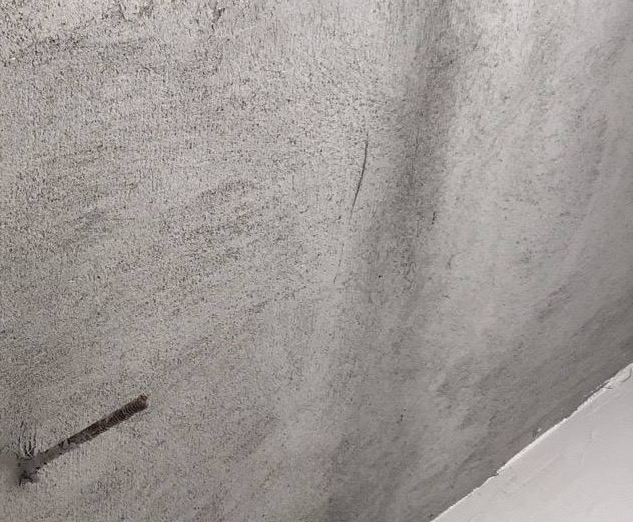Exposed reinforcement: (21, 392, 151, 478)
